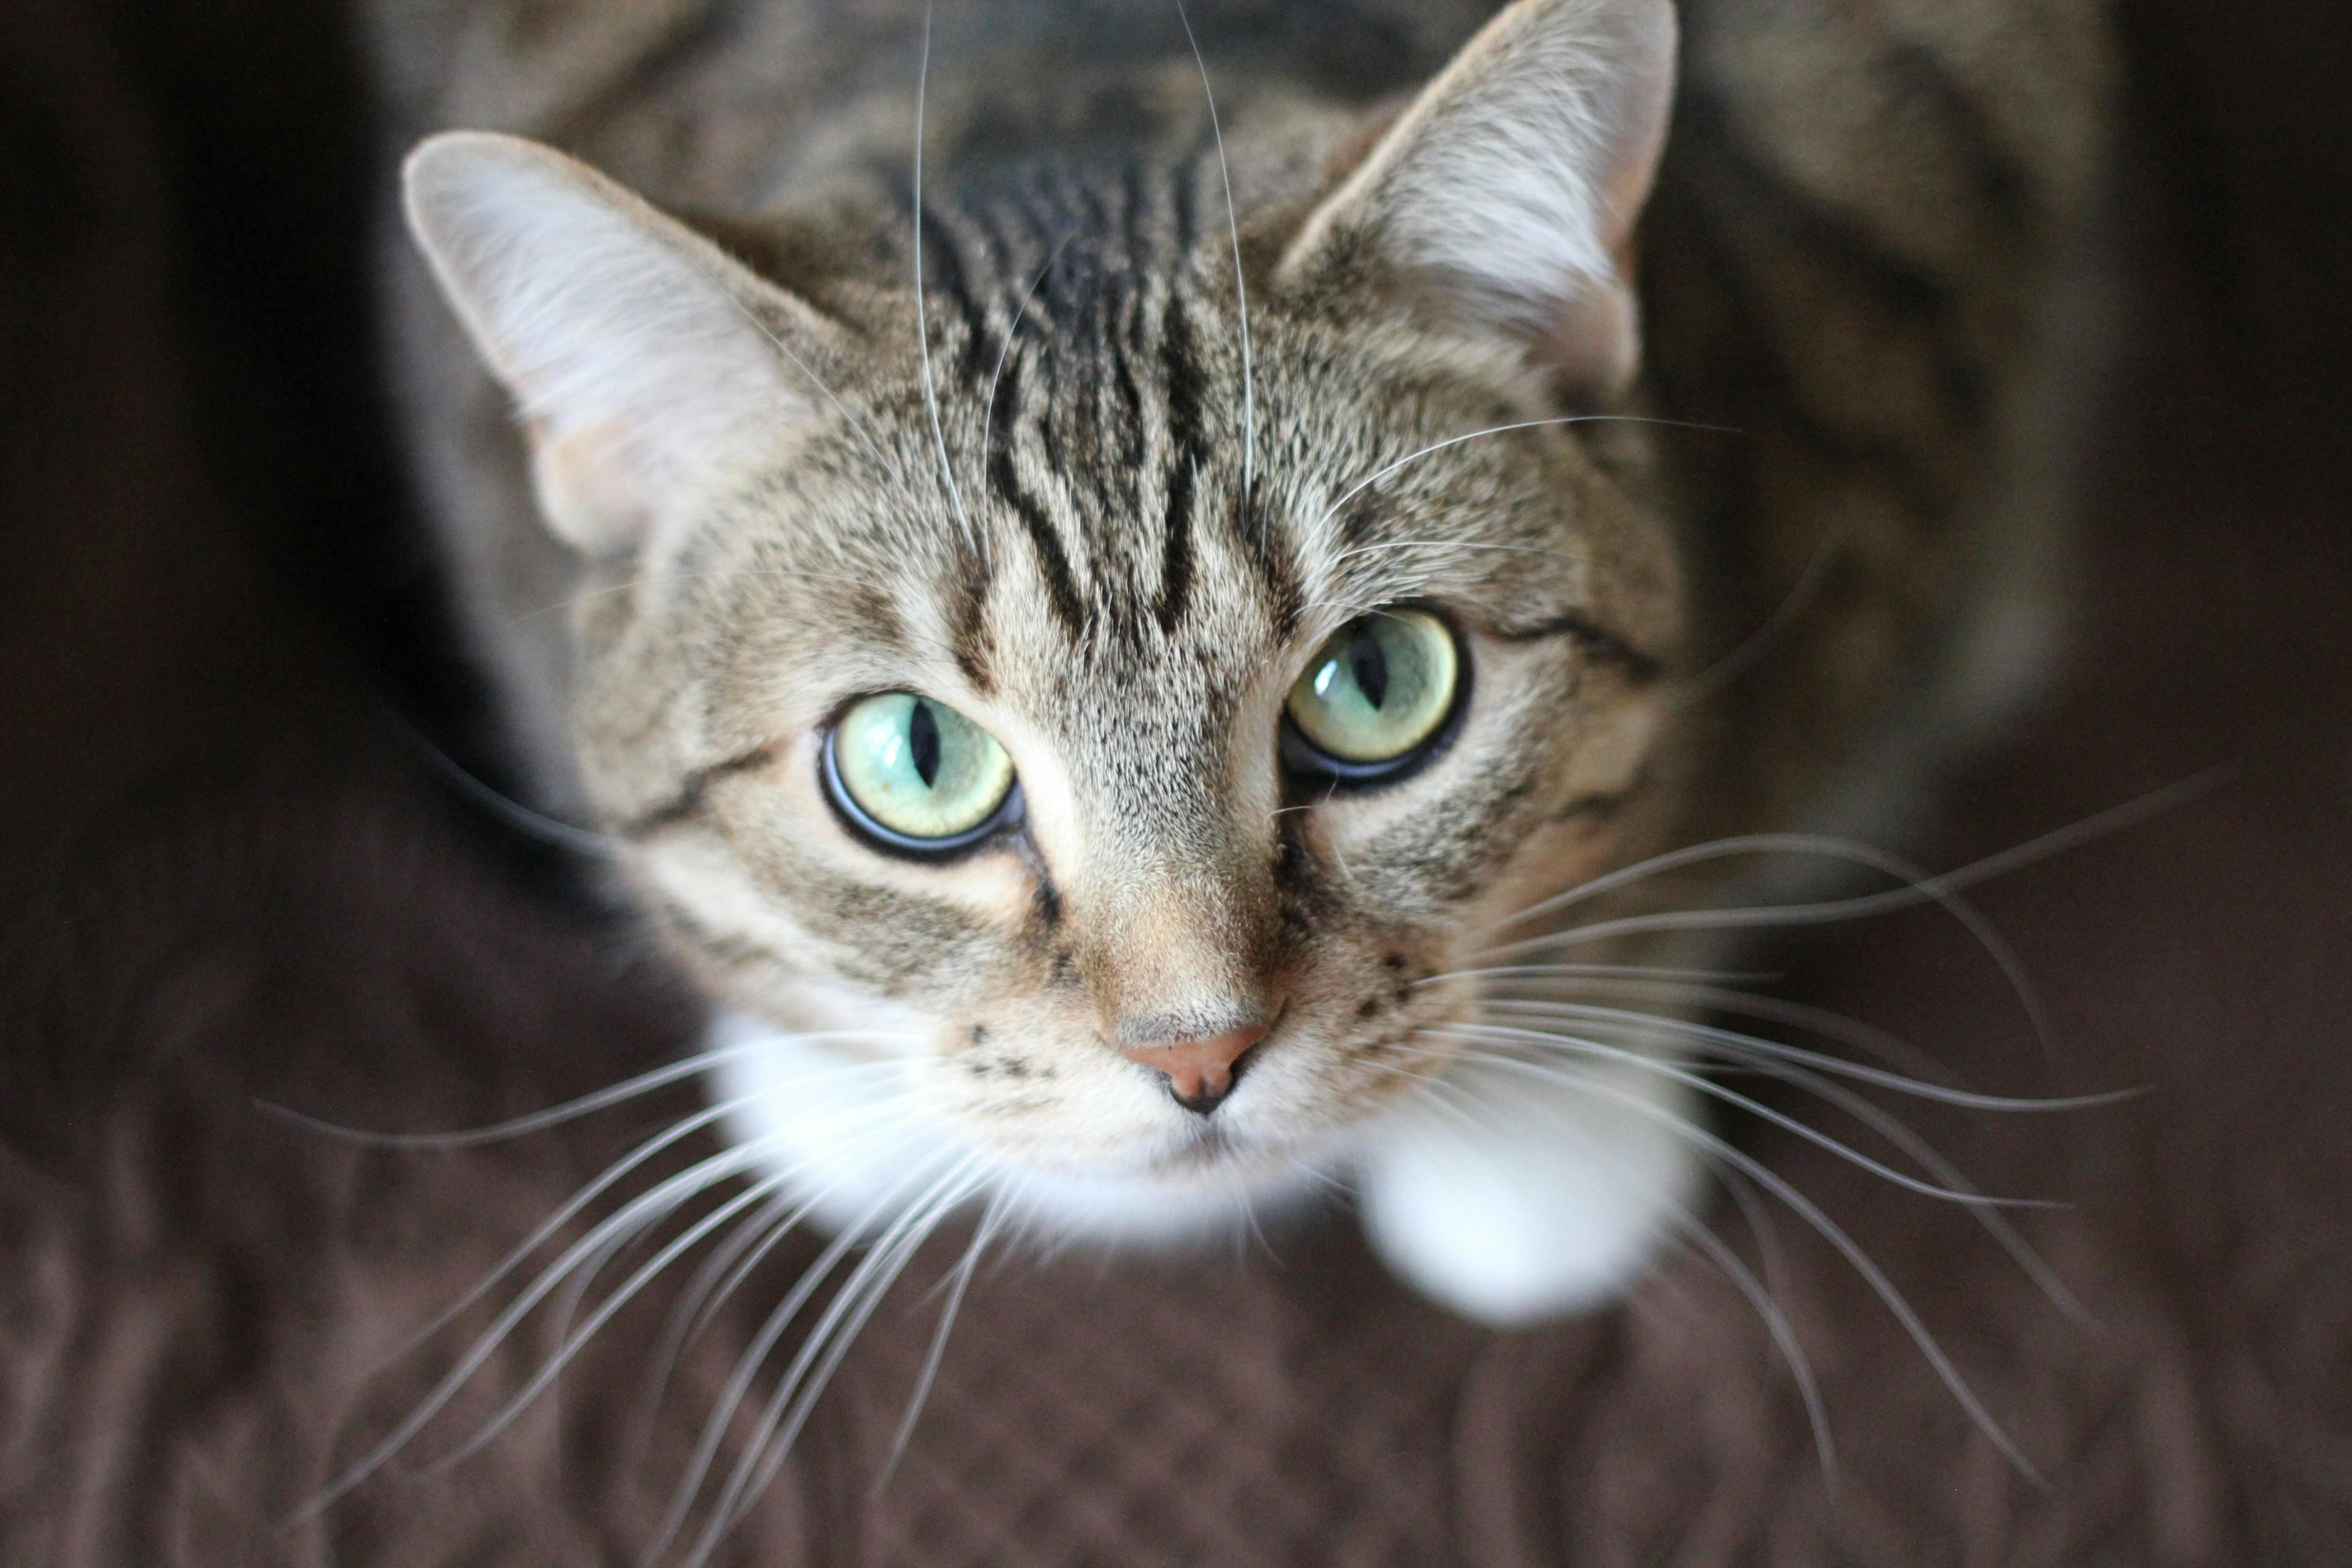kedo: (399, 0, 1708, 1330)
